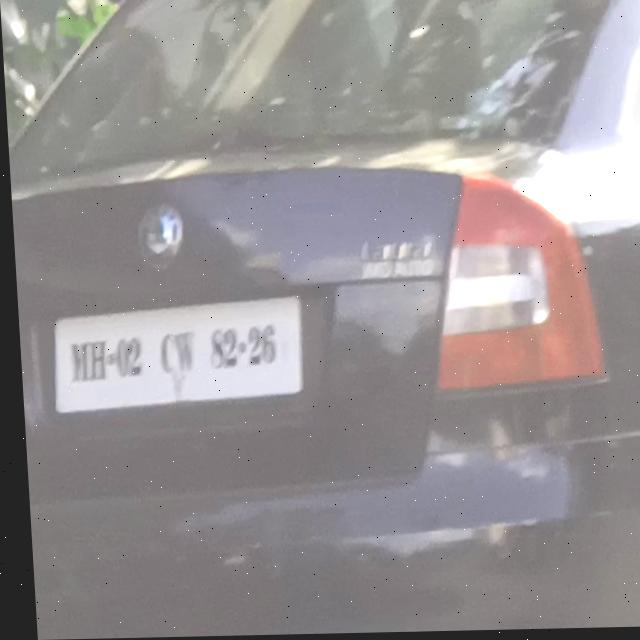plate: (43, 294, 303, 415)
